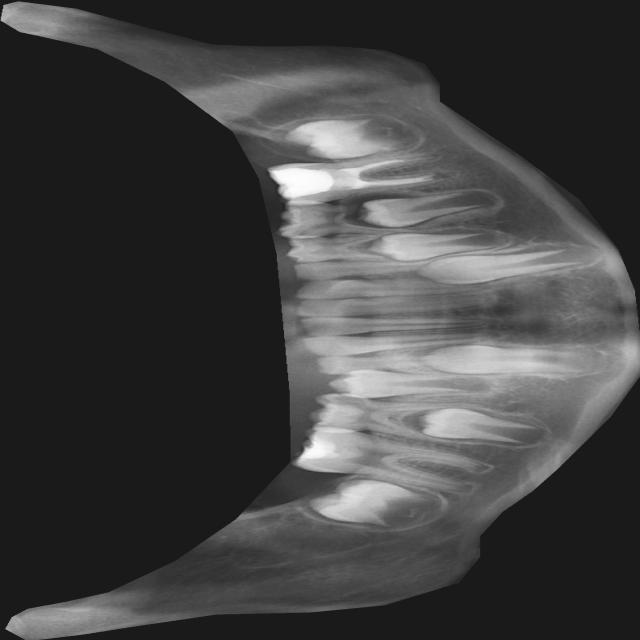mandibula: (0, 0, 640, 640)
